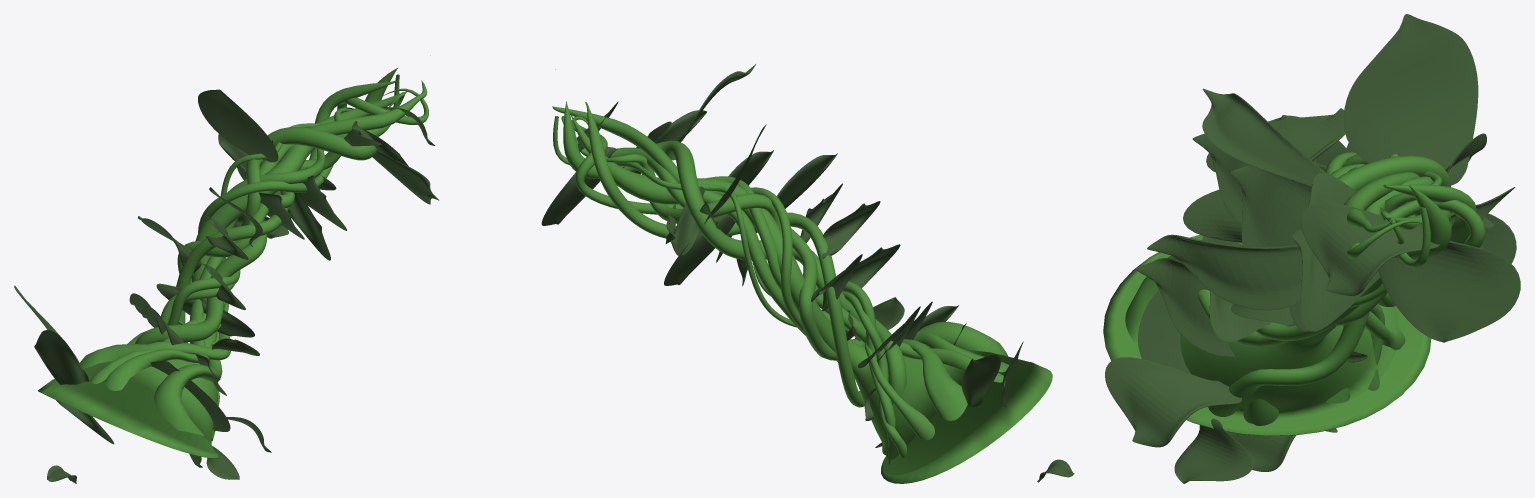
The model's file is BeanstalkBridge#9.fbx.
The picture shows the model from 3 angles, left to right: view 1: azimuth 30°, elevation 25°; view 2: azimuth 150°, elevation 25°; view 3: azimuth 270°, elevation 25°; orthographic projection. The views are drawn at different scales.
Parts seen in each view (by area): view 1: Stalk12.001, Stalk12, Stalk12.006, Stalk12.010, Stalk12.005, Stalk12|Plane.006|Dupli|2, Stalk12.002, Stalk12.001|Plane.006|Dupli|4, Stalk12.003, Stalk12.004, Stalk12|Plane.006|Dupli|6, Stalk12.002|Plane.006|Dupli|1 (+12 smaller); view 2: Stalk12.001, Stalk12.010, Stalk12, Stalk12.002, Stalk12.005, Stalk12.006, Stalk12.009, Stalk12.003, Stalk12.004, Stalk12.010|Plane.006|Dupli|5, Stalk12.010|Plane.006|Dupli|3, Stalk12.007 (+10 smaller); view 3: Stalk12.001, Stalk12|Plane.006|Dupli|2, Stalk12.001|Plane.006|Dupli|5, Stalk12|Plane.006|Dupli|6, Stalk12.002|Plane.006|Dupli|3, Stalk12|Plane.006|Dupli|3, Stalk12|Plane.006|Dupli|5, Stalk12.002|Plane.006|Dupli|6, Stalk12.002, Stalk12|Plane.006|Dupli|7, Stalk12.001|Plane.006|Dupli|6, Stalk12 (+17 smaller).
Boxes of the visible parts, left/top/right/bottom form: Stalk12.001: left=38, top=90, right=408, bottom=458; Stalk12: left=135, top=55, right=430, bottom=344; Stalk12.006: left=105, top=88, right=429, bottom=390; Stalk12.010: left=80, top=80, right=427, bottom=368; Stalk12.005: left=154, top=92, right=405, bottom=437; Stalk12|Plane.006|Dupli|2: left=198, top=89, right=278, bottom=162; Stalk12.002: left=176, top=80, right=396, bottom=440; Stalk12.001|Plane.006|Dupli|4: left=34, top=330, right=89, bottom=384; Stalk12.003: left=189, top=108, right=351, bottom=346; Stalk12.004: left=90, top=148, right=325, bottom=383; Stalk12|Plane.006|Dupli|6: left=372, top=151, right=439, bottom=204; Stalk12.002|Plane.006|Dupli|1: left=288, top=192, right=330, bottom=260; Stalk12.001: left=571, top=115, right=1052, bottom=483; Stalk12.010: left=552, top=106, right=967, bottom=420; Stalk12: left=555, top=69, right=906, bottom=455; Stalk12.002: left=585, top=102, right=864, bottom=407; Stalk12.005: left=571, top=116, right=1007, bottom=360; Stalk12.006: left=561, top=116, right=1009, bottom=372; Stalk12.009: left=553, top=116, right=934, bottom=440; Stalk12.003: left=606, top=154, right=866, bottom=343; Stalk12.004: left=628, top=170, right=1003, bottom=382; Stalk12.010|Plane.006|Dupli|5: left=664, top=214, right=735, bottom=285; Stalk12.010|Plane.006|Dupli|3: left=961, top=354, right=1000, bottom=407; Stalk12.007: left=752, top=263, right=895, bottom=464; Stalk12.001: left=1103, top=167, right=1450, bottom=436; Stalk12|Plane.006|Dupli|2: left=1343, top=14, right=1478, bottom=185; Stalk12.001|Plane.006|Dupli|5: left=1378, top=241, right=1520, bottom=342; Stalk12|Plane.006|Dupli|6: left=1147, top=234, right=1302, bottom=310; Stalk12.002|Plane.006|Dupli|3: left=1105, top=357, right=1241, bottom=447; Stalk12|Plane.006|Dupli|3: left=1301, top=202, right=1439, bottom=295; Stalk12|Plane.006|Dupli|5: left=1202, top=88, right=1326, bottom=187; Stalk12.002|Plane.006|Dupli|6: left=1230, top=164, right=1311, bottom=247; Stalk12.002: left=1208, top=184, right=1476, bottom=416; Stalk12|Plane.006|Dupli|7: left=1292, top=173, right=1388, bottom=331; Stalk12.001|Plane.006|Dupli|6: left=1135, top=258, right=1235, bottom=356; Stalk12: left=1326, top=155, right=1451, bottom=403.
Bounding box in the file's own units: 217 × 156 × 106.
